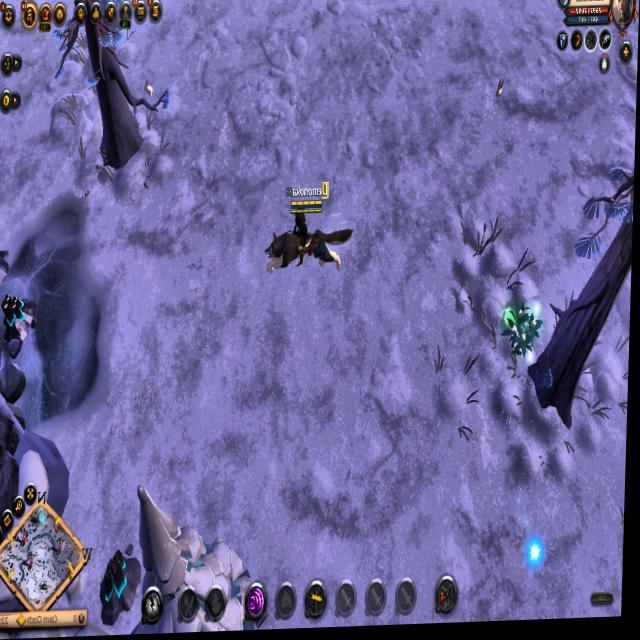fiber tier 4: (504, 297, 546, 379)
ore tier 4: (101, 551, 143, 627), (3, 292, 32, 347)
